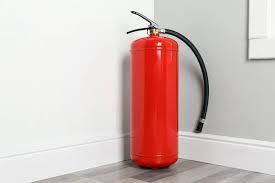floor-kept: (121, 7, 213, 172)
